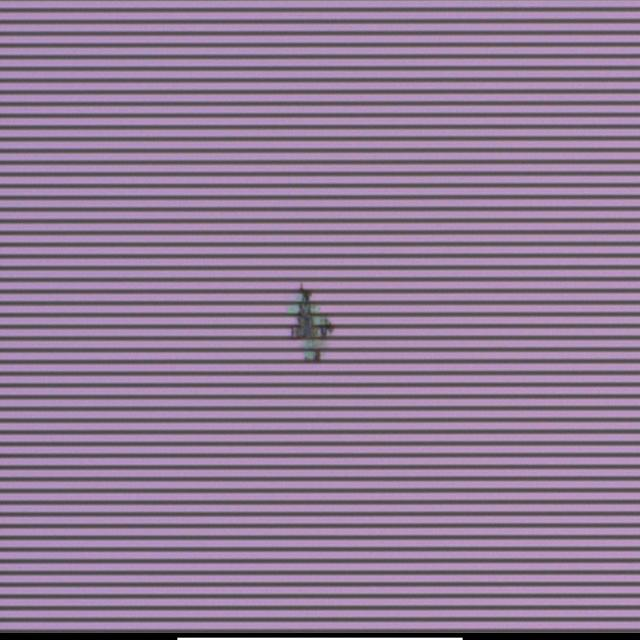03_intrusion: (284, 283, 336, 362)
